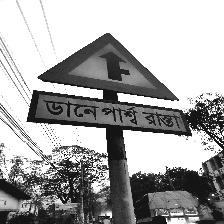Side-road-right: (29, 32, 188, 136)
